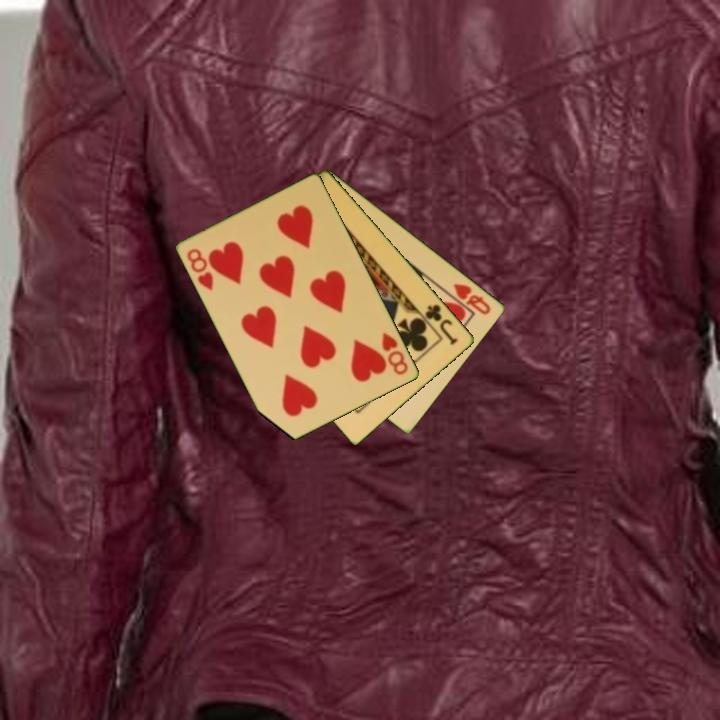8h: (184, 245, 217, 294), (379, 329, 411, 378)
Jc: (422, 300, 461, 348)
Qh: (450, 280, 494, 318)
